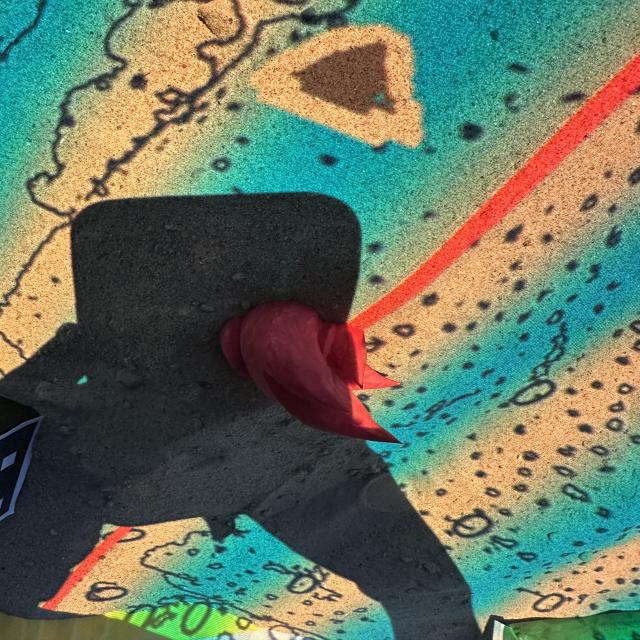fire: (218, 299, 405, 446)
